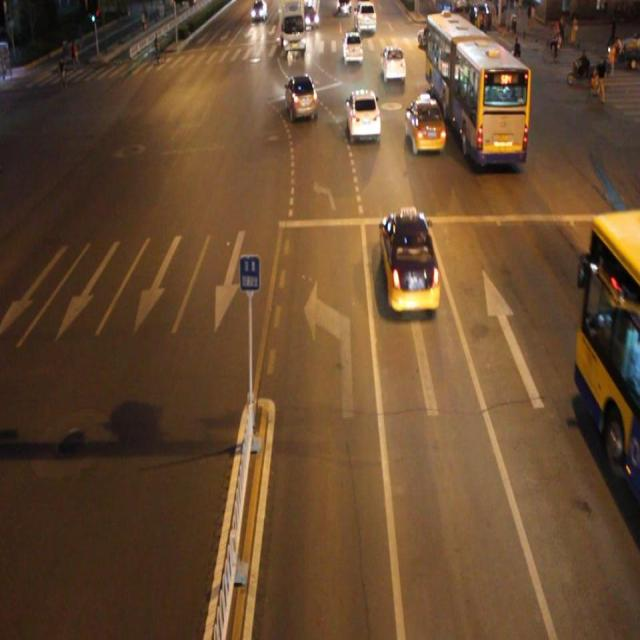car: (380, 207, 439, 313), (404, 96, 444, 156), (346, 89, 381, 142), (284, 71, 317, 121), (382, 46, 406, 82)
van: (568, 214, 640, 503), (426, 12, 526, 166)
